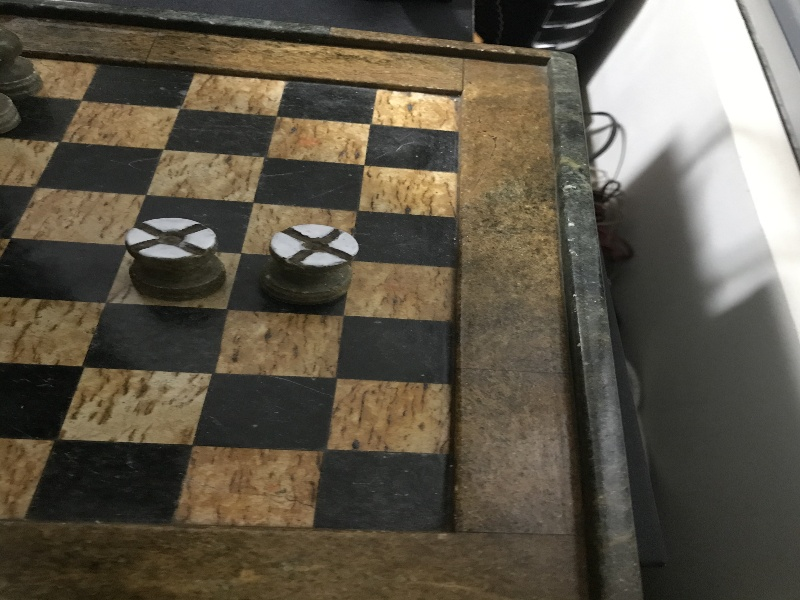WhiteBishop: (126, 216, 226, 299), (266, 223, 358, 302)
